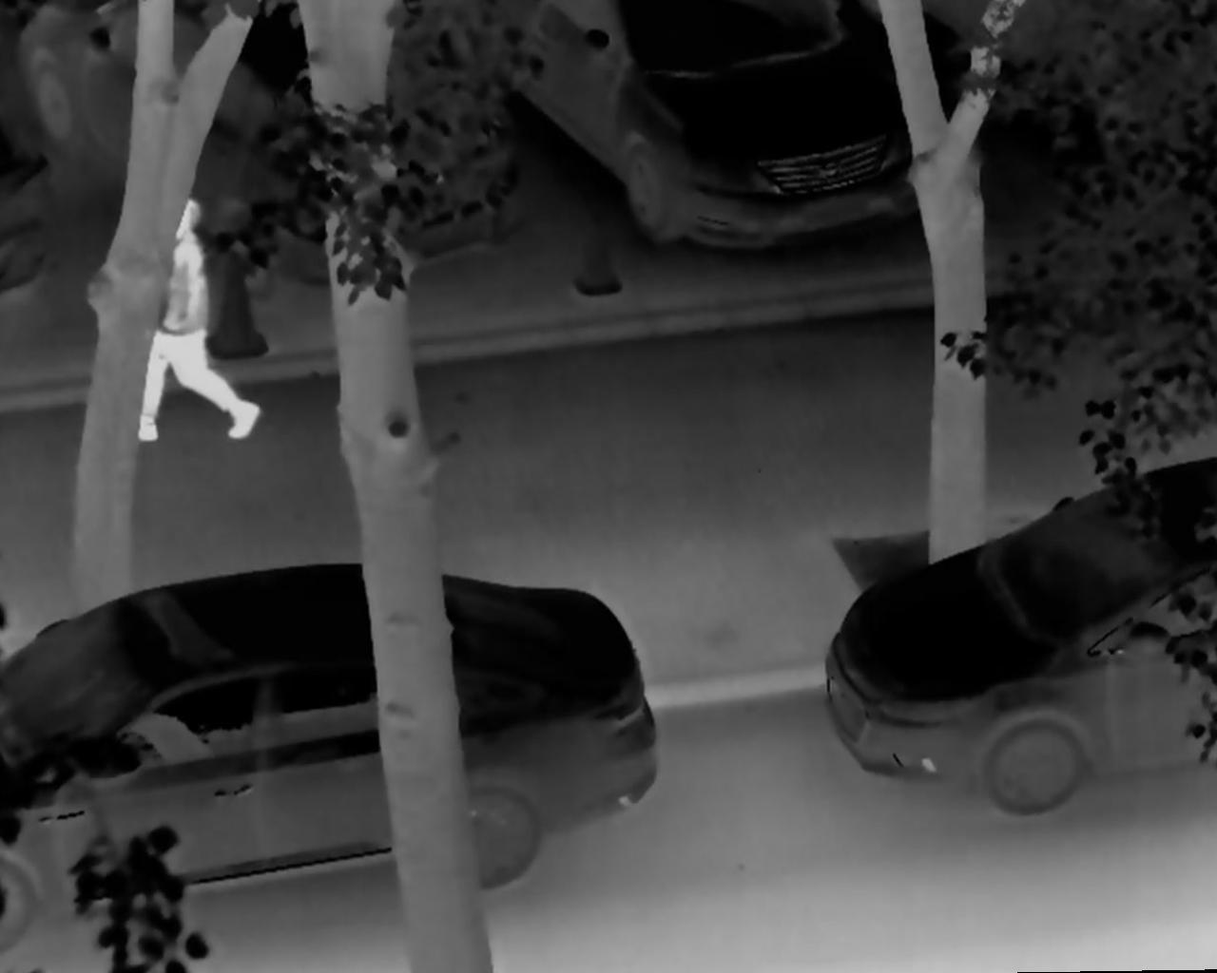person: (136, 190, 261, 448)
